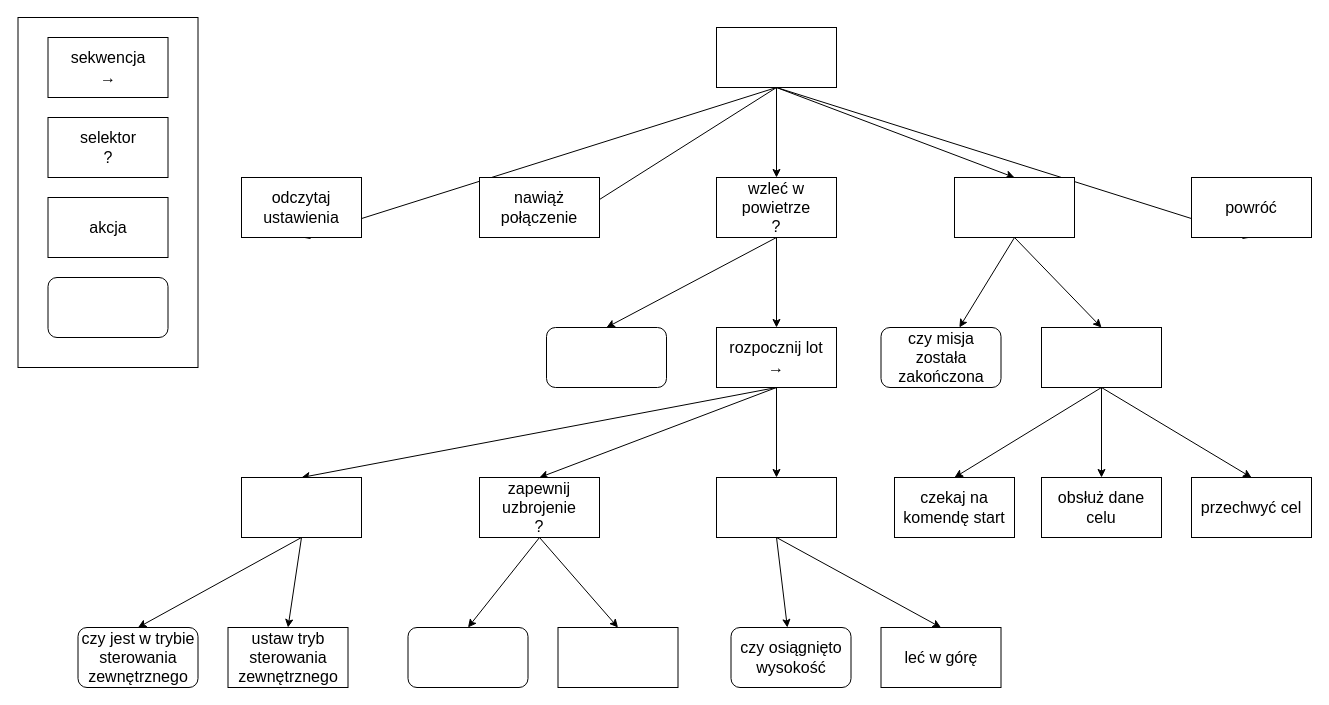
Image size: 1329x705. Some labels were removed from this diagram. Each missing label, with the box of its shape:
czy jest uzbrojony: (407, 626, 528, 688)
czy jest w powietrzu: (546, 326, 666, 388)
rozpoczęcie →: (716, 26, 836, 88)
uzbrój: (557, 626, 678, 688)
warunek: (47, 276, 168, 338)
wykonaj misję →: (1040, 326, 1162, 388)
wykonaj system ?: (954, 176, 1074, 238)
wznieś się ?: (716, 476, 836, 538)
zapewnij sterowanie ?: (240, 476, 362, 538)
